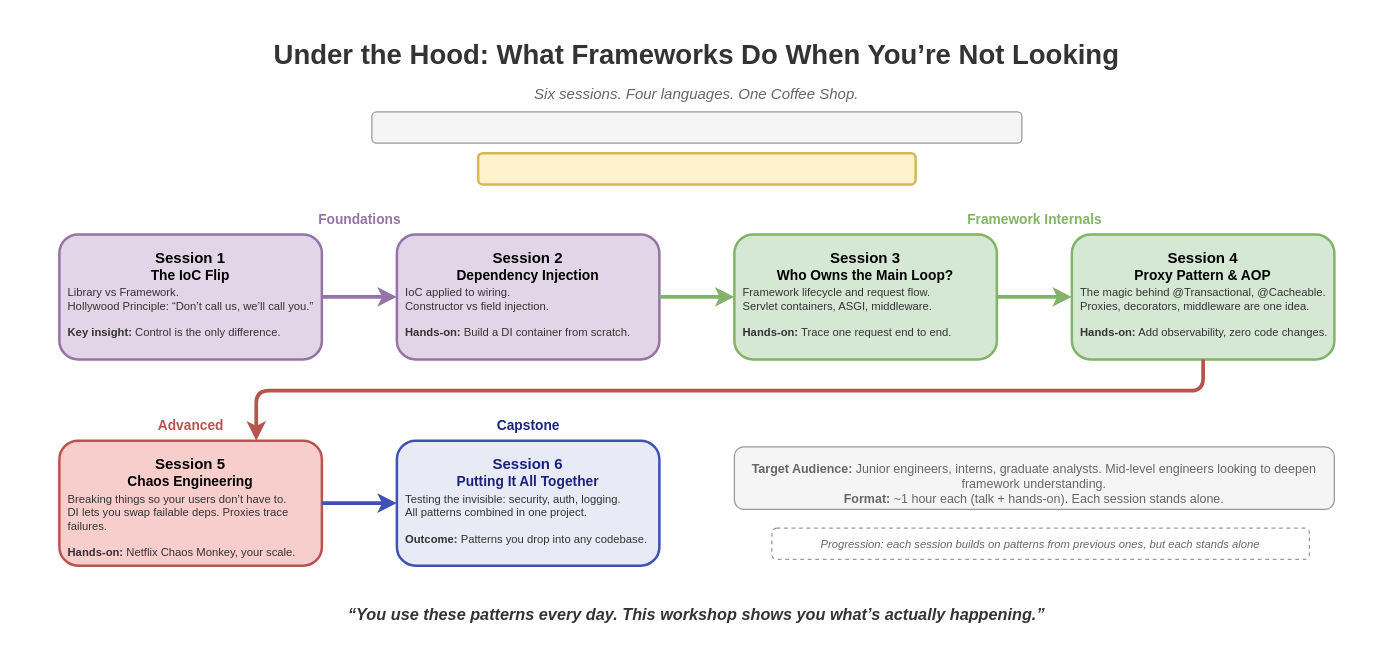
Some shapes in this 1393 by 668 pixel diagram are drawn without their labels. The centre of each missing label's shape, as x and y in pixels:
"Domain: Coffee Shop (Orders, Menu, Kitchen, Notifications)" goes at point (696, 168).
"Java (Spring Boot) | Python (FastAPI) | TypeScript (NestJS) | Go (Gin / stdlib)" goes at point (696, 127).
